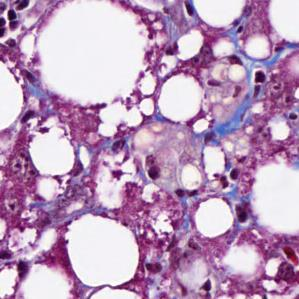inflammation: (218, 42, 273, 87)
